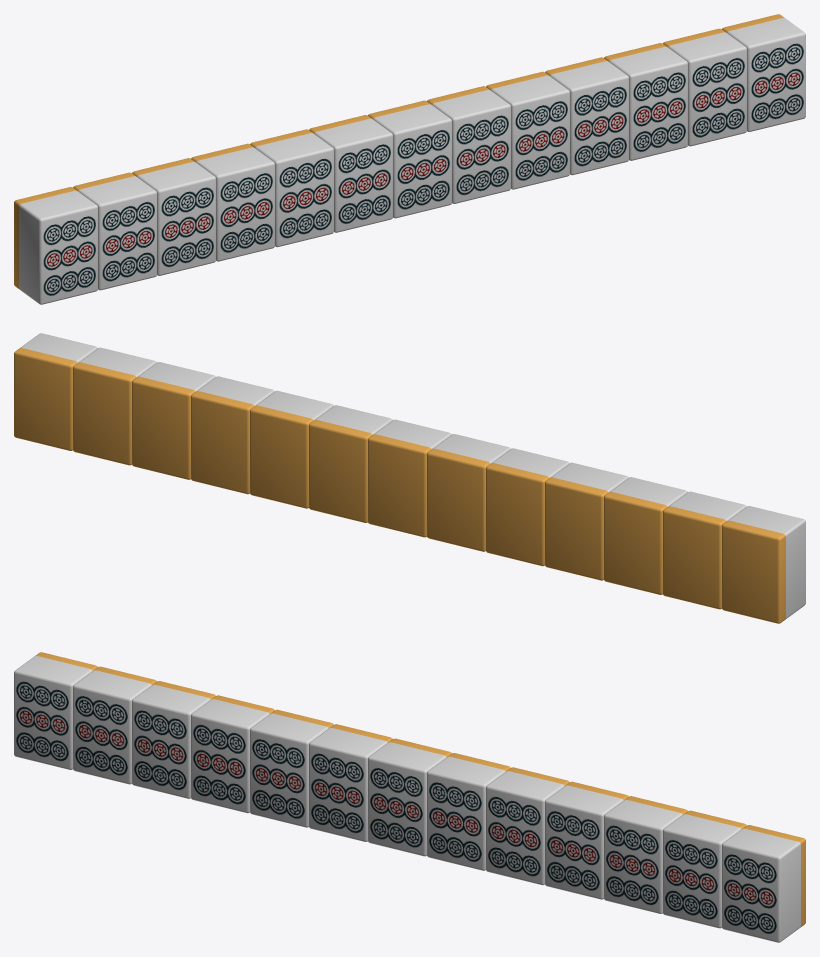
Rendered from stage_layout.glb.
The picture shows the model from 3 angles, top to bottom: view 1: azimuth 30°, elevation 25°; view 2: azimuth 150°, elevation 25°; view 3: azimuth 330°, elevation 25°; orthographic projection.
Visible parts, largest first — view 1: Tile.000, Tile.011, Tile.001, Tile.006, Tile.008, Tile.003, Tile.004, Tile.005, Tile.012, Tile.002, Tile.007, Tile.009 (+1 smaller); view 2: Tile.000, Tile.011, Tile.001, Tile.006, Tile.008, Tile.003, Tile.004, Tile.005, Tile.012, Tile.002, Tile.007, Tile.009 (+1 smaller); view 3: Tile.012, Tile.001, Tile.011, Tile.004, Tile.006, Tile.000, Tile.007, Tile.008, Tile.009, Tile.002, Tile.003, Tile.005 (+1 smaller).
Boxes of the visible parts, bbox=[...] form: Tile.000: bbox=[14, 187, 97, 304]; Tile.011: bbox=[663, 28, 746, 146]; Tile.001: bbox=[73, 172, 156, 290]; Tile.006: bbox=[368, 100, 451, 218]; Tile.008: bbox=[486, 71, 569, 189]; Tile.003: bbox=[191, 143, 274, 261]; Tile.004: bbox=[250, 129, 333, 247]; Tile.005: bbox=[309, 115, 392, 232]; Tile.012: bbox=[722, 14, 805, 131]; Tile.002: bbox=[132, 158, 215, 275]; Tile.007: bbox=[427, 86, 510, 203]; Tile.009: bbox=[545, 57, 628, 175]; Tile.000: bbox=[722, 506, 805, 623]; Tile.011: bbox=[73, 347, 156, 465]; Tile.001: bbox=[663, 491, 746, 609]; Tile.006: bbox=[368, 419, 451, 537]; Tile.008: bbox=[250, 390, 333, 508]; Tile.003: bbox=[545, 462, 628, 580]; Tile.004: bbox=[486, 448, 569, 566]; Tile.005: bbox=[427, 434, 510, 551]; Tile.012: bbox=[14, 333, 97, 450]; Tile.002: bbox=[604, 477, 687, 594]; Tile.007: bbox=[309, 405, 392, 522]; Tile.009: bbox=[191, 376, 274, 494]; Tile.012: bbox=[722, 825, 805, 942]; Tile.001: bbox=[73, 666, 156, 784]; Tile.011: bbox=[663, 810, 746, 928]; Tile.004: bbox=[250, 709, 333, 827]; Tile.006: bbox=[368, 738, 451, 856]; Tile.000: bbox=[14, 652, 97, 769]; Tile.007: bbox=[427, 753, 510, 870]; Tile.008: bbox=[486, 767, 569, 885]; Tile.009: bbox=[545, 781, 628, 899]; Tile.002: bbox=[132, 681, 215, 798]; Tile.003: bbox=[191, 695, 274, 813]; Tile.005: bbox=[309, 724, 392, 841].
Size of what is drawn, in the model's own units: 0.26 by 0.028 by 0.016.
3 materials, 1 textured.
